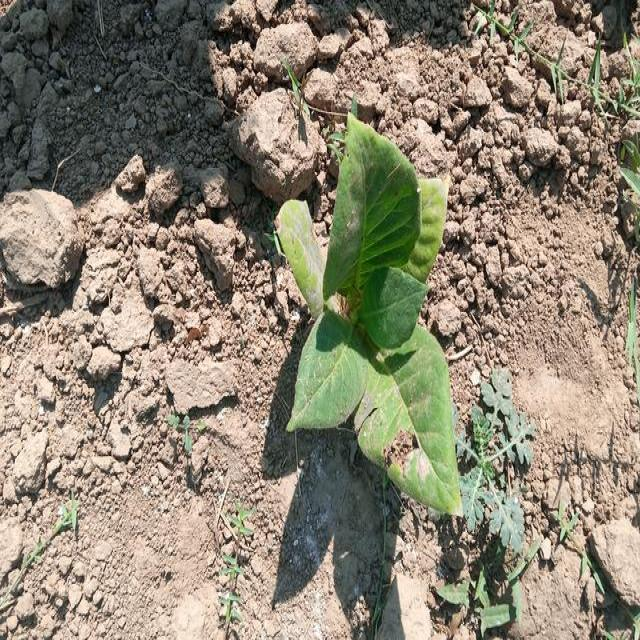crop: (291, 131, 471, 512)
